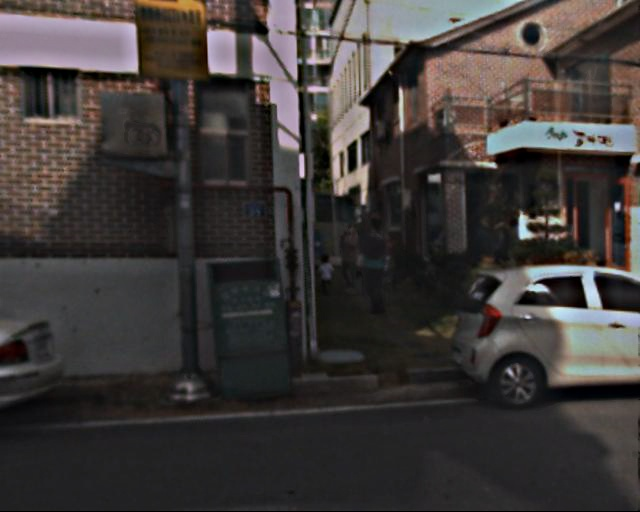person: (354, 214, 397, 319), (336, 224, 364, 293), (315, 253, 334, 299)
